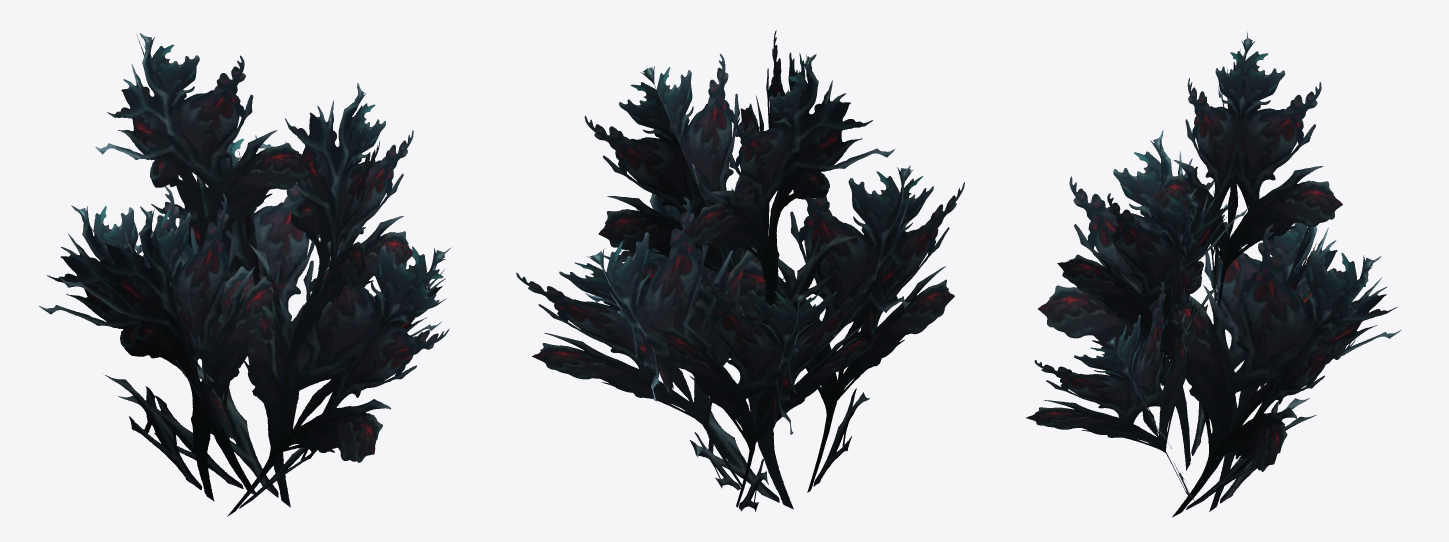
The picture shows the model from 3 angles, left to right: view 1: azimuth 30°, elevation 25°; view 2: azimuth 150°, elevation 25°; view 3: azimuth 270°, elevation 25°; orthographic projection. The views are drawn at different scales.
Bounding box in the file's own units: 4.17 × 4.95 × 4.1.
Materials: 1 (1 with a texture image).
